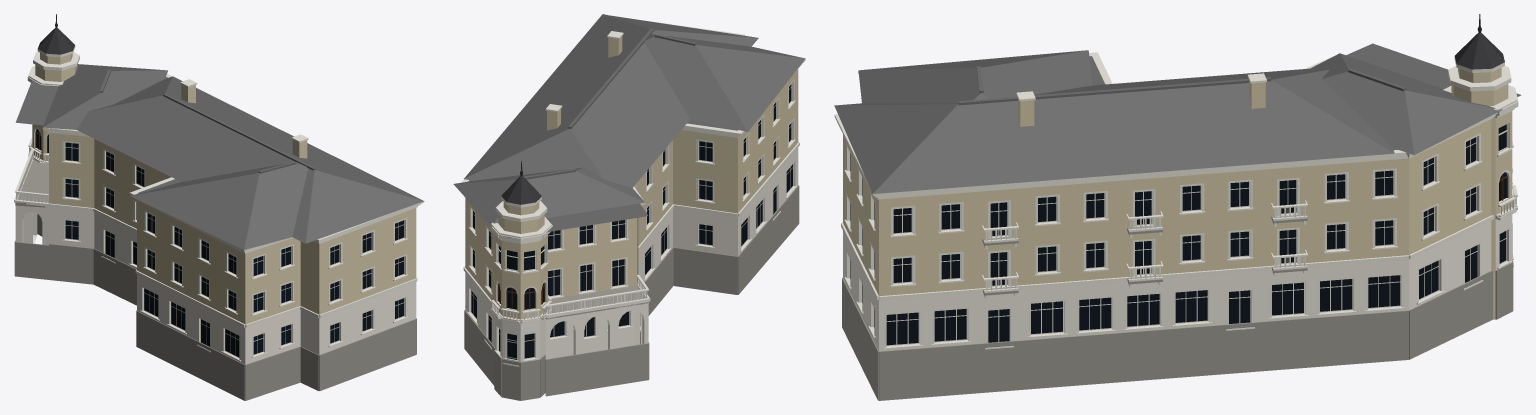
Rendered from bmorskaya4.glb.
The picture shows the model from 3 angles, left to right: view 1: azimuth 30°, elevation 25°; view 2: azimuth 150°, elevation 25°; view 3: azimuth 270°, elevation 25°; orthographic projection. The views are drawn at different scales.
Parts seen in each view (by area): view 1: bmorskaya4_roof, bmorskaya4_wall, bmorskaya4_stone, bmorskaya4_trim, bmorskaya4_wall2, bmorskaya4_glass, bmorskaya4_wall3; view 2: bmorskaya4_roof, bmorskaya4_wall, bmorskaya4_stone, bmorskaya4_trim, bmorskaya4_wall2, bmorskaya4_glass, bmorskaya4_wall3, bmorskaya4_wood; view 3: bmorskaya4_roof, bmorskaya4_wall, bmorskaya4_stone, bmorskaya4_trim, bmorskaya4_glass, bmorskaya4_wall2, bmorskaya4_wall3.
Boxes of the visible parts, x1,y1,x2,y2 form: bmorskaya4_roof: (15,64,424,249); bmorskaya4_wall: (32,53,416,324); bmorskaya4_stone: (14,159,416,400); bmorskaya4_trim: (14,45,423,361); bmorskaya4_wall2: (15,205,416,364); bmorskaya4_glass: (36,129,403,356); bmorskaya4_wall3: (38,27,74,54); bmorskaya4_roof: (453,14,805,238); bmorskaya4_wall: (465,36,798,319); bmorskaya4_stone: (464,185,799,400); bmorskaya4_trim: (461,20,805,366); bmorskaya4_wall2: (465,148,798,362); bmorskaya4_glass: (471,84,792,359); bmorskaya4_wall3: (501,176,541,204); bmorskaya4_wood: (497,284,545,309); bmorskaya4_roof: (834,43,1521,194); bmorskaya4_wall: (843,67,1512,319); bmorskaya4_stone: (842,214,1513,400); bmorskaya4_trim: (834,52,1518,349); bmorskaya4_glass: (850,117,1506,345); bmorskaya4_wall2: (843,214,1512,351); bmorskaya4_wall3: (1455,33,1504,69).
Size of the model in its own units: 22.93 by 20.6 by 43.86.
